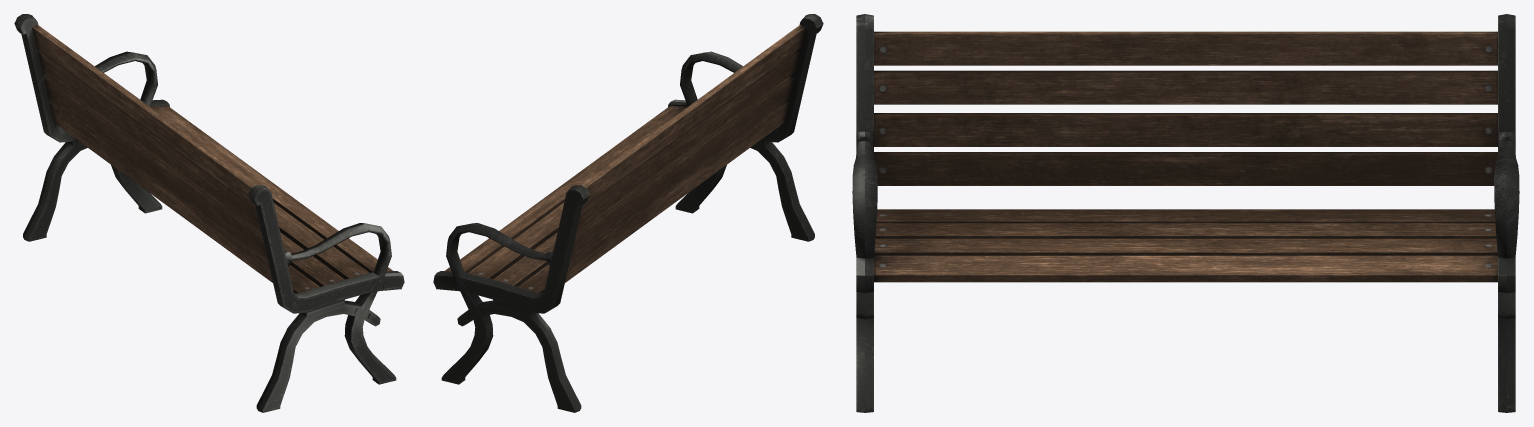
Rendered from bench.fbx.
3 views of the same model, side by side, from view 1: azimuth 30°, elevation 25°; view 2: azimuth 150°, elevation 25°; view 3: azimuth 270°, elevation 25° (orthographic). The views are drawn at different scales.
Visible parts, largest first — view 1: bench_001; view 2: bench_001; view 3: bench_001.
Boxes of the visible parts, x1,y1,x2,y2 form: bench_001: (14, 14, 404, 412); bench_001: (433, 14, 823, 412); bench_001: (852, 14, 1519, 412).
Size of the model in its own units: 58.87 by 83.18 by 163.
